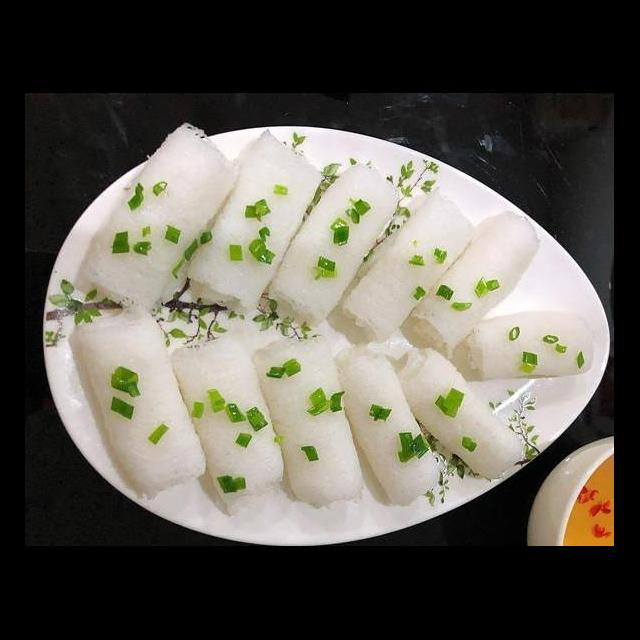banh hoi: (83, 117, 244, 320), (182, 126, 328, 320), (72, 304, 212, 506), (338, 182, 481, 348), (264, 162, 402, 330), (168, 336, 290, 518), (408, 208, 542, 368), (252, 332, 370, 512), (396, 346, 532, 488), (338, 352, 447, 510), (462, 302, 600, 383)
